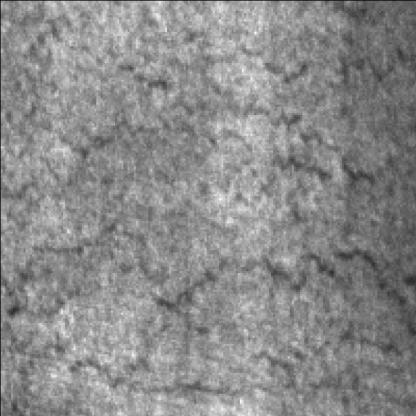crazing: (71, 245, 414, 416), (15, 23, 339, 185), (0, 166, 222, 397), (248, 6, 406, 192)
